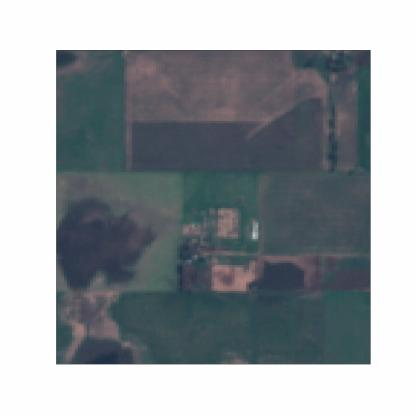silobolsa: (253, 218, 259, 242)
